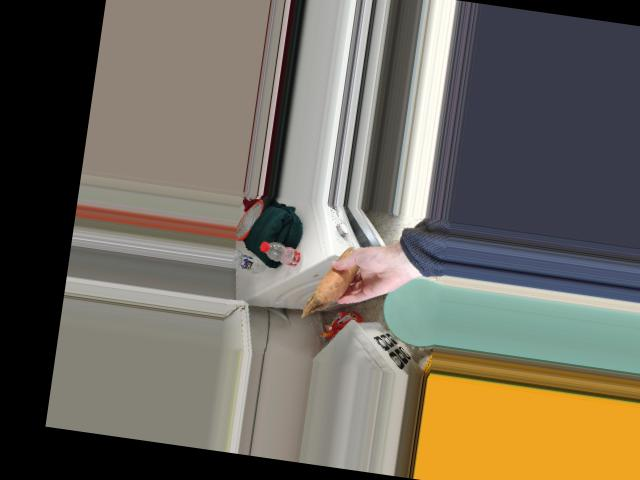sweet_potato: (316, 251, 363, 303)
